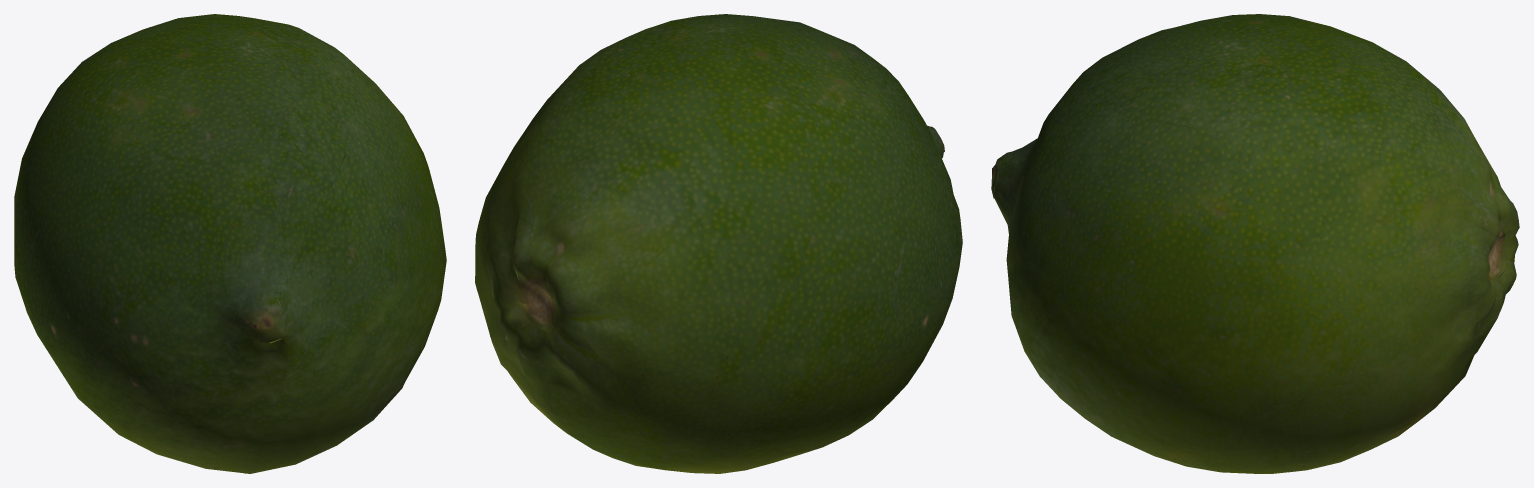
File: lime.glb
The picture shows the model from 3 angles, left to right: view 1: azimuth 30°, elevation 25°; view 2: azimuth 150°, elevation 25°; view 3: azimuth 270°, elevation 25°; orthographic projection. The views are drawn at different scales.
Visible parts, largest first — view 1: Lime_Lime PBR_0; view 2: Lime_Lime PBR_0; view 3: Lime_Lime PBR_0.
Part boxes in pixels (bbox=[...]): Lime_Lime PBR_0: bbox=[14, 14, 446, 473]; Lime_Lime PBR_0: bbox=[475, 14, 962, 473]; Lime_Lime PBR_0: bbox=[991, 14, 1519, 473].
Size of the model in its own units: 0.0482 by 0.049 by 0.0561.
1 material, 1 textured.
